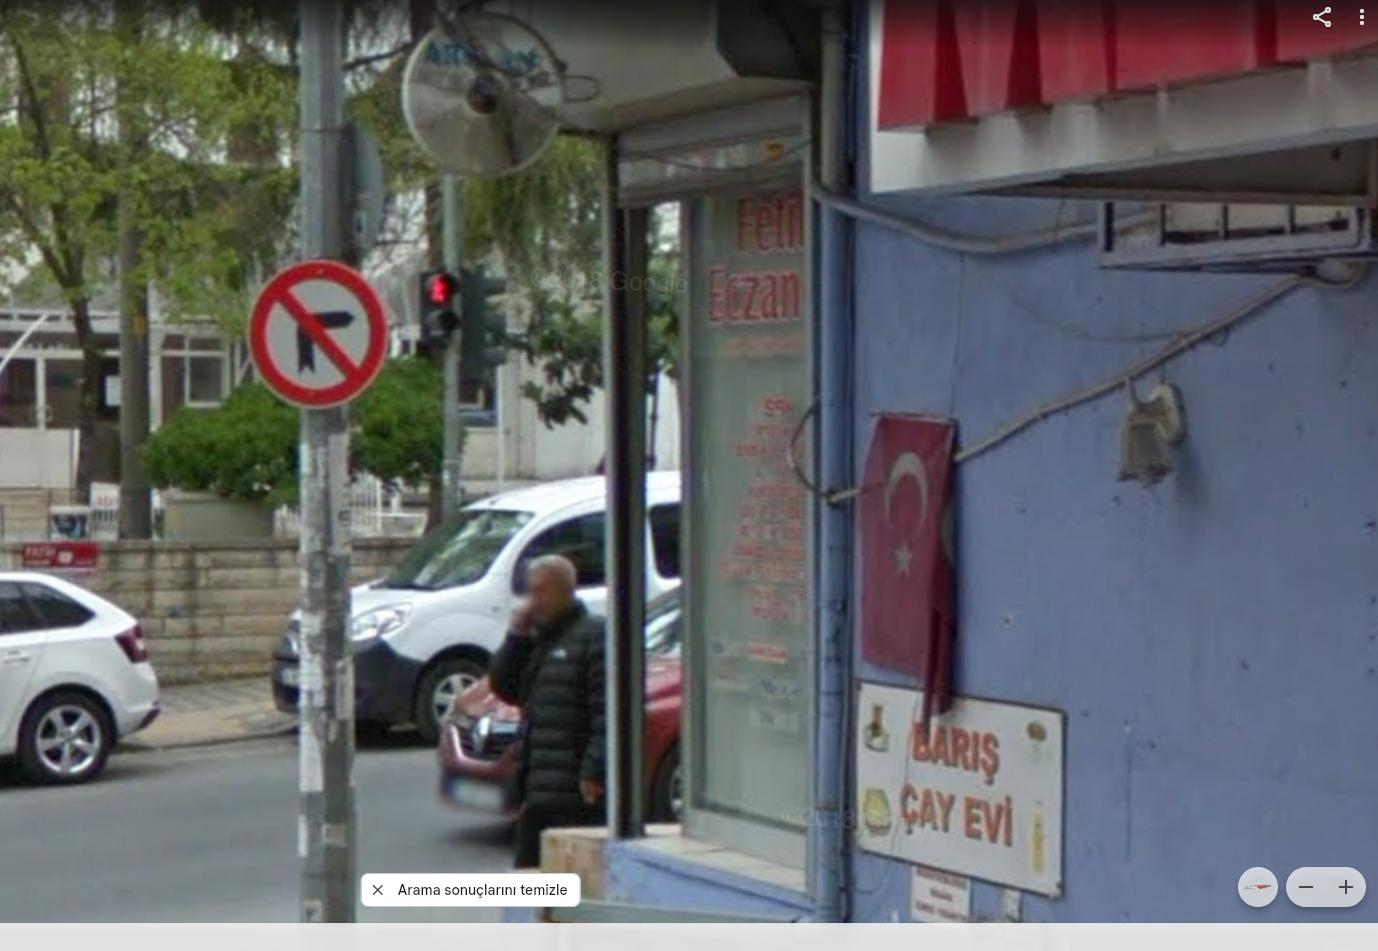rightturnsareforbidden: (250, 258, 383, 402)
